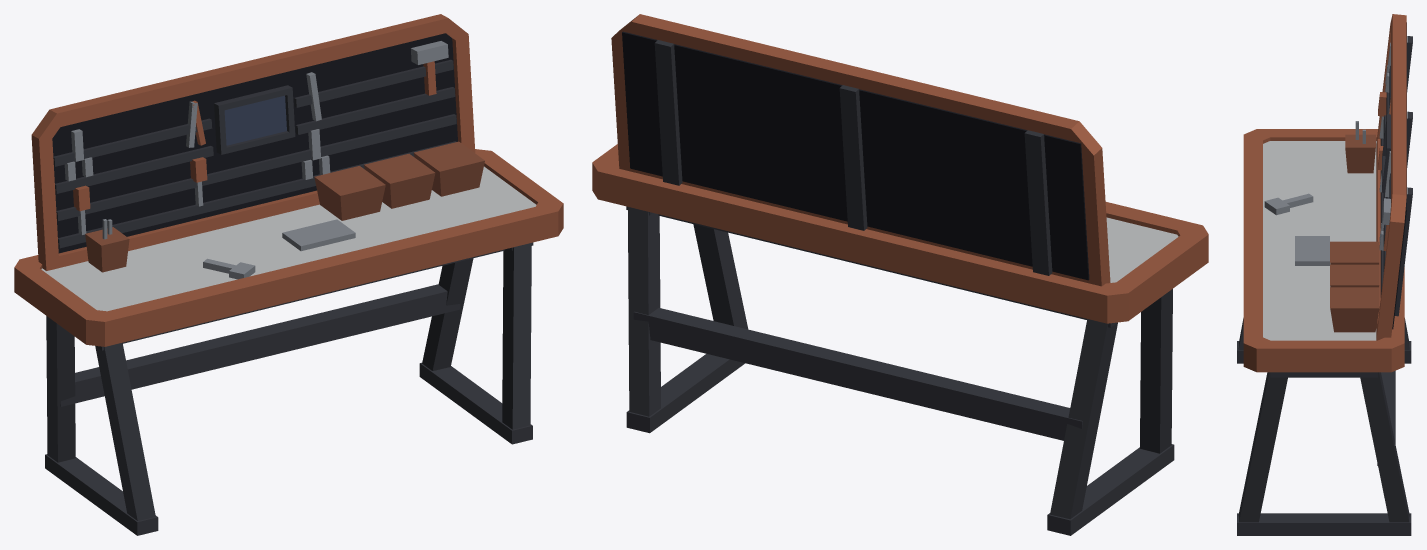
File: field-workbench-70f706.glb
3 renders of one model, left to right at view 1: azimuth 30°, elevation 25°; view 2: azimuth 150°, elevation 25°; view 3: azimuth 270°, elevation 25°, orthographic. The views are drawn at different scales.
Bounding box in the file's own units: 2 × 1.45 × 0.6764.
